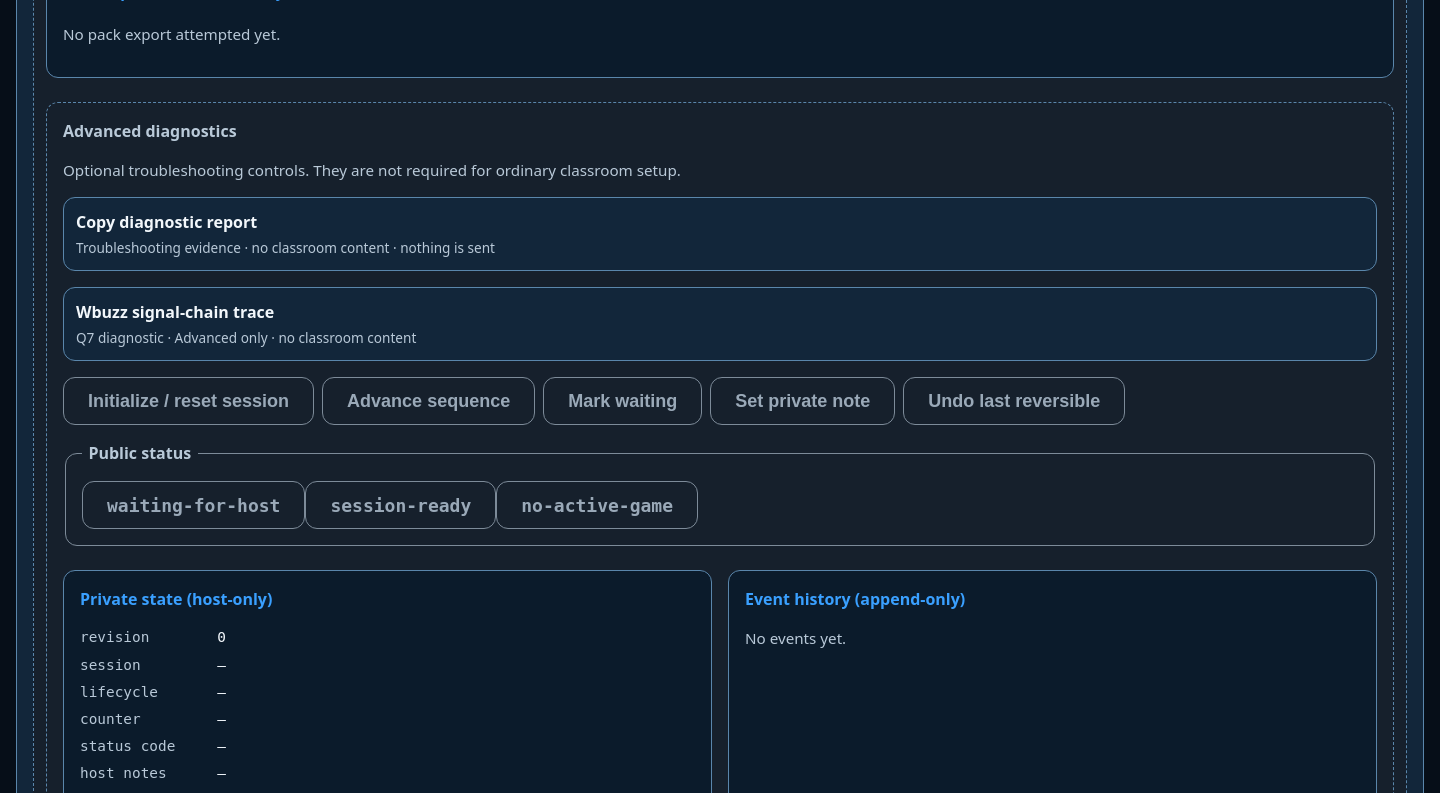
mutation controls during unsettled persistence boot › holds Initialize / reset session unavailable until boot settles, and loses nothing
(page scrolled)
Click the button "Initialize / reset session" at (189, 401), box [63,377,314,425]
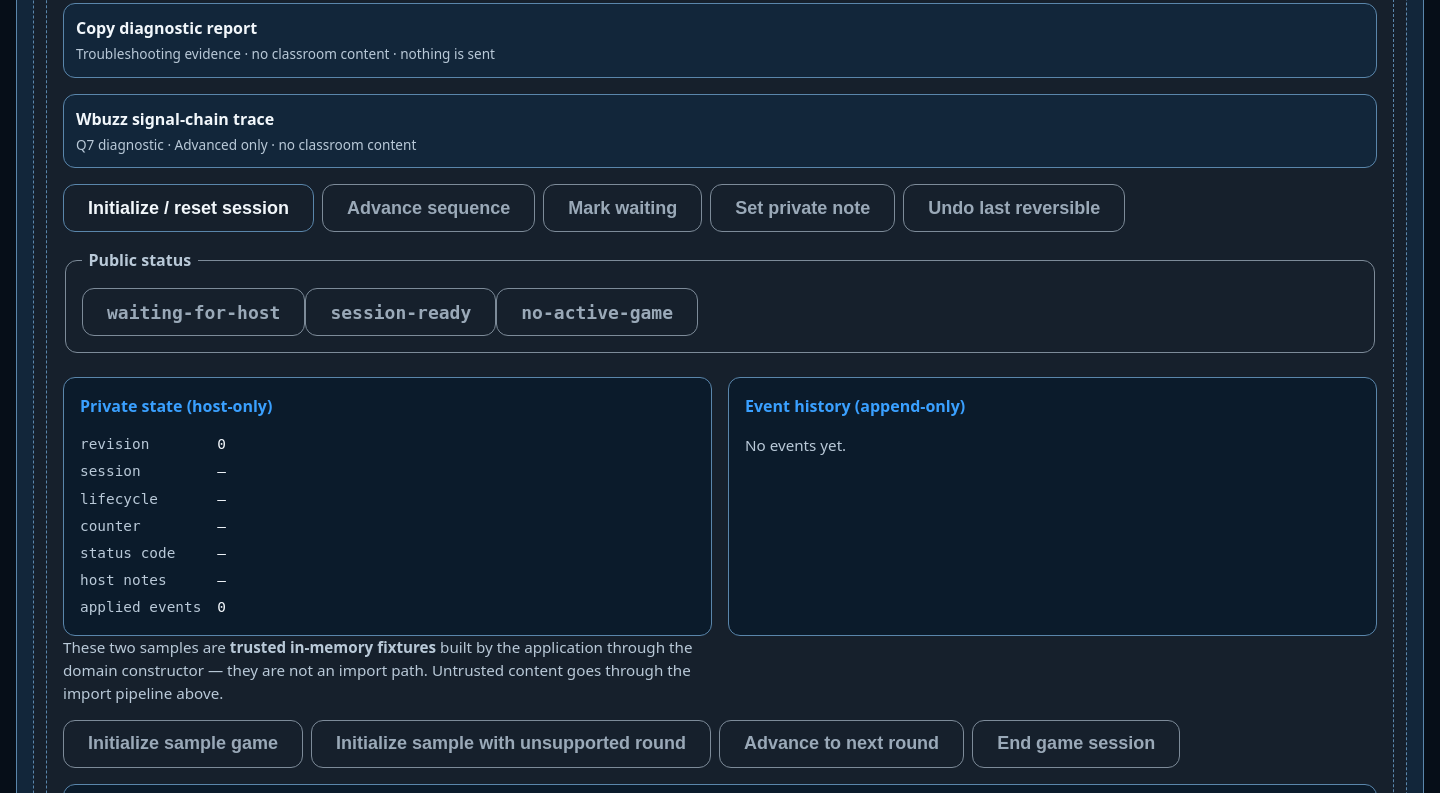
Expected: the text with test id "private-session" reads "—", [217,464,226,480]
Expected: the button "Initialize / reset session" is enabled, [63,184,314,232]
